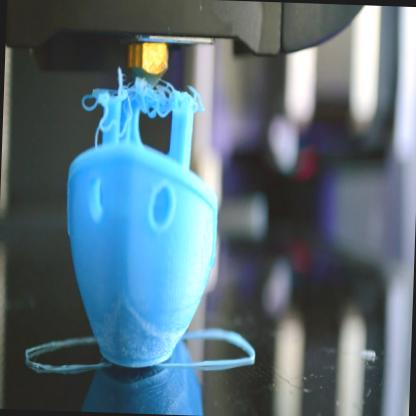fail: (88, 80, 206, 130)
